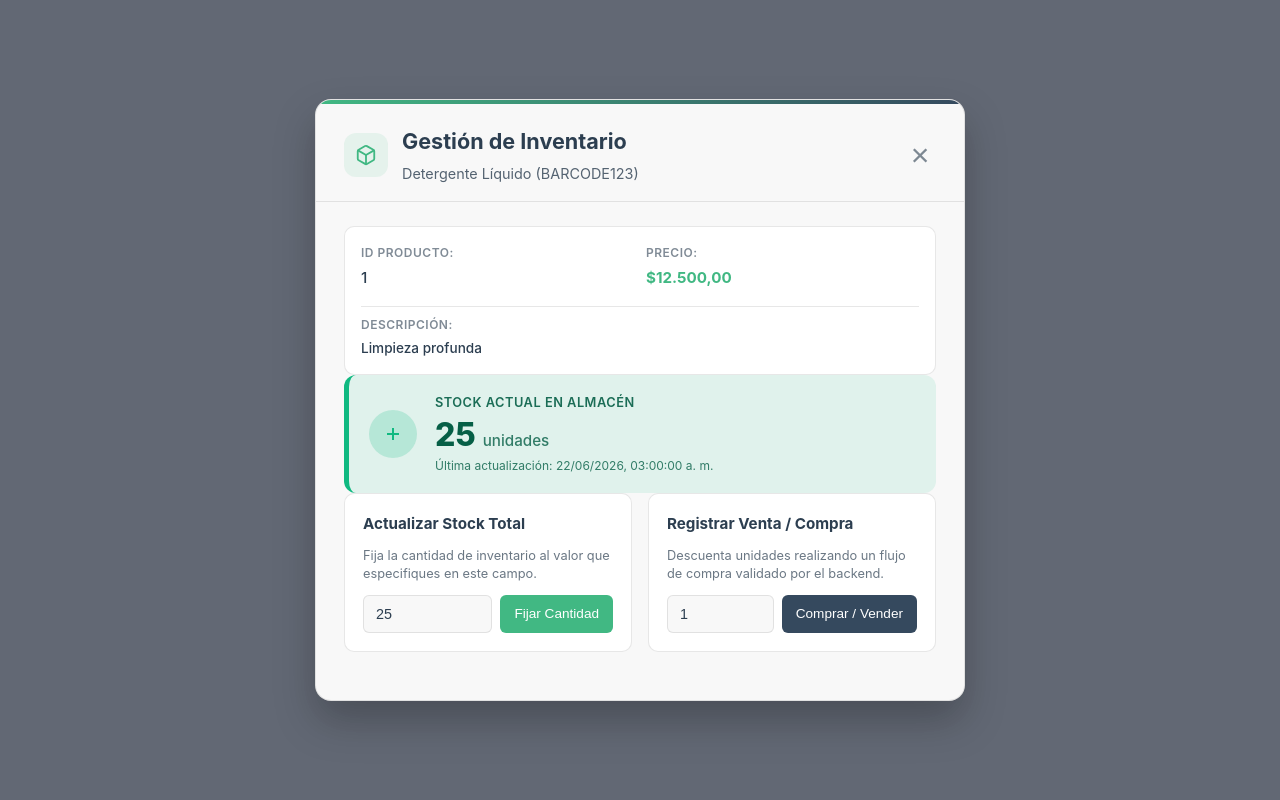
Test case: InventoryModal.vue › submits a PUT request to update the stock correctly
Replace the text in the number field with placeholder "Nueva cantidad" below "Actualizar Stock Total" with "80" at (428, 614), box 363,595 -> 492,633
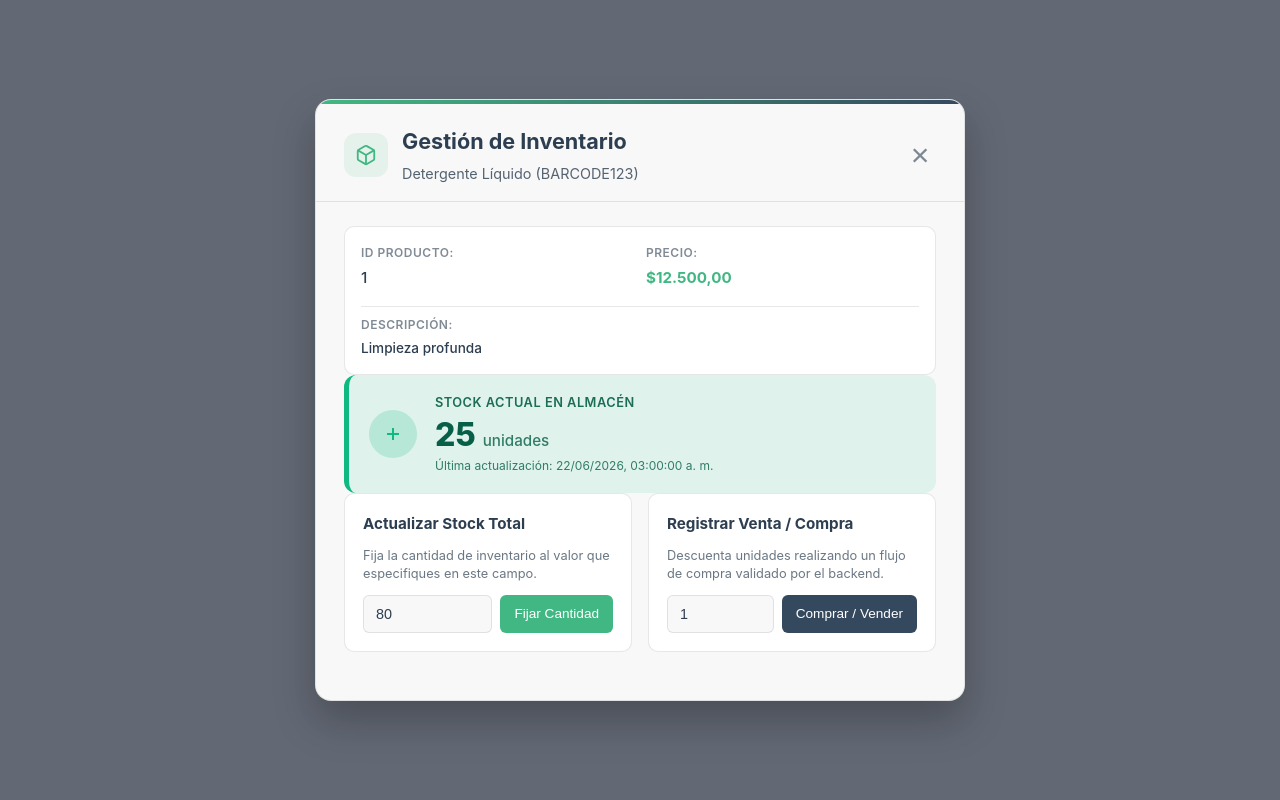
Note: Submit "Fijar Cantidad" form
Submit the form "Fijar Cantidad", box 363,595 -> 613,633
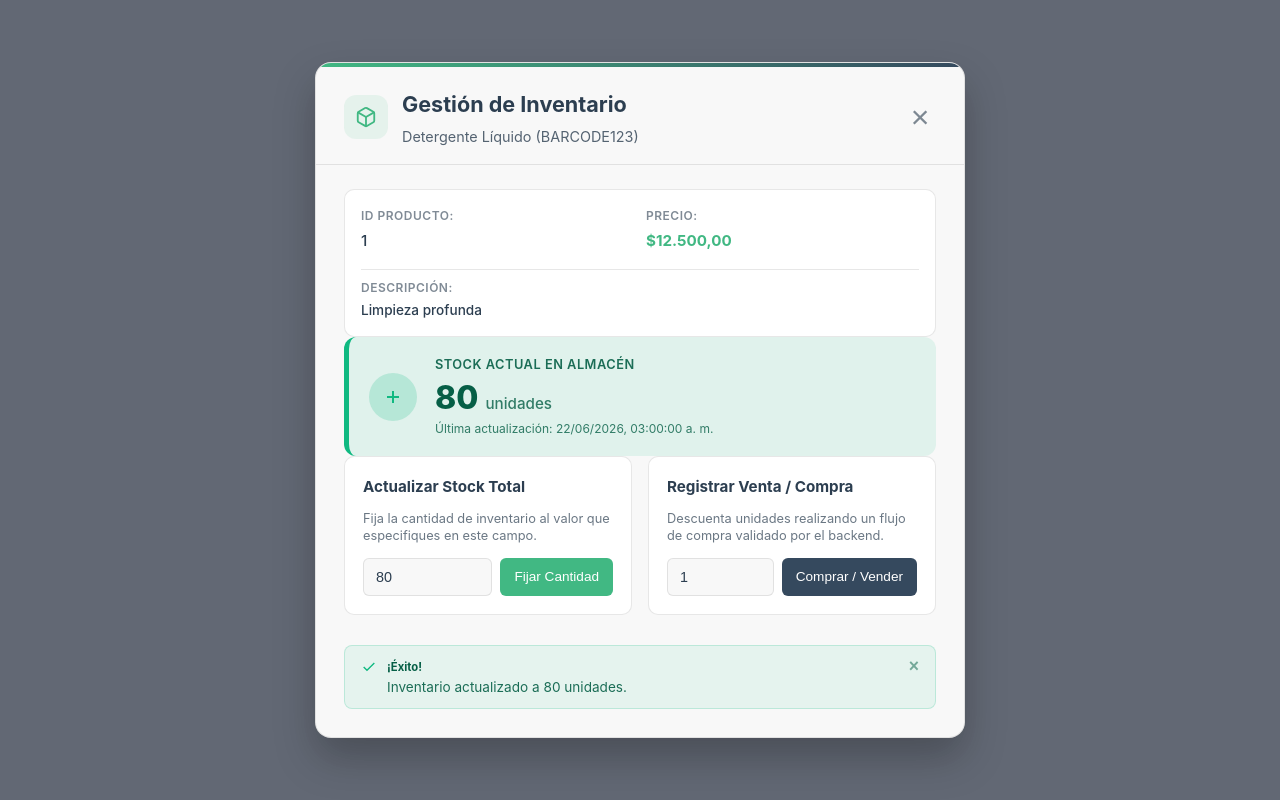
Check: the text "Inventario actualizado a 80 unidades." is shown, box 387,678 -> 627,696
